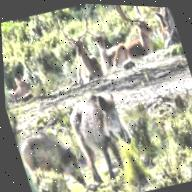boar: (66, 70, 144, 170), (22, 110, 92, 180)
